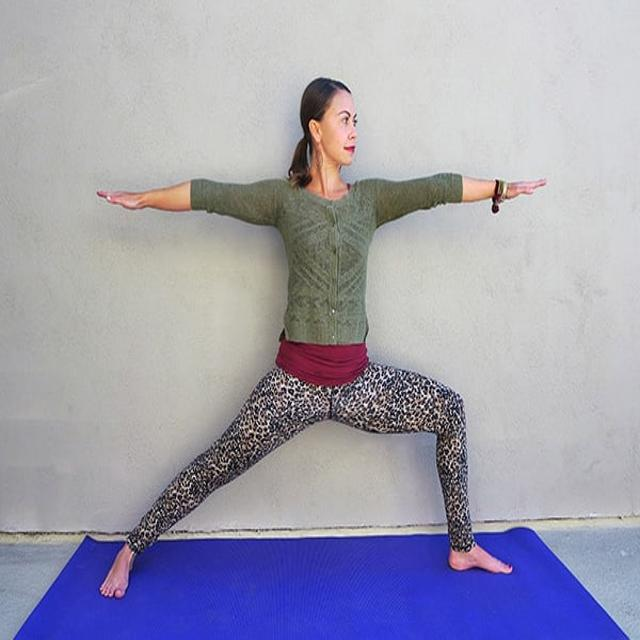Warrior_II: (95, 72, 548, 602)
